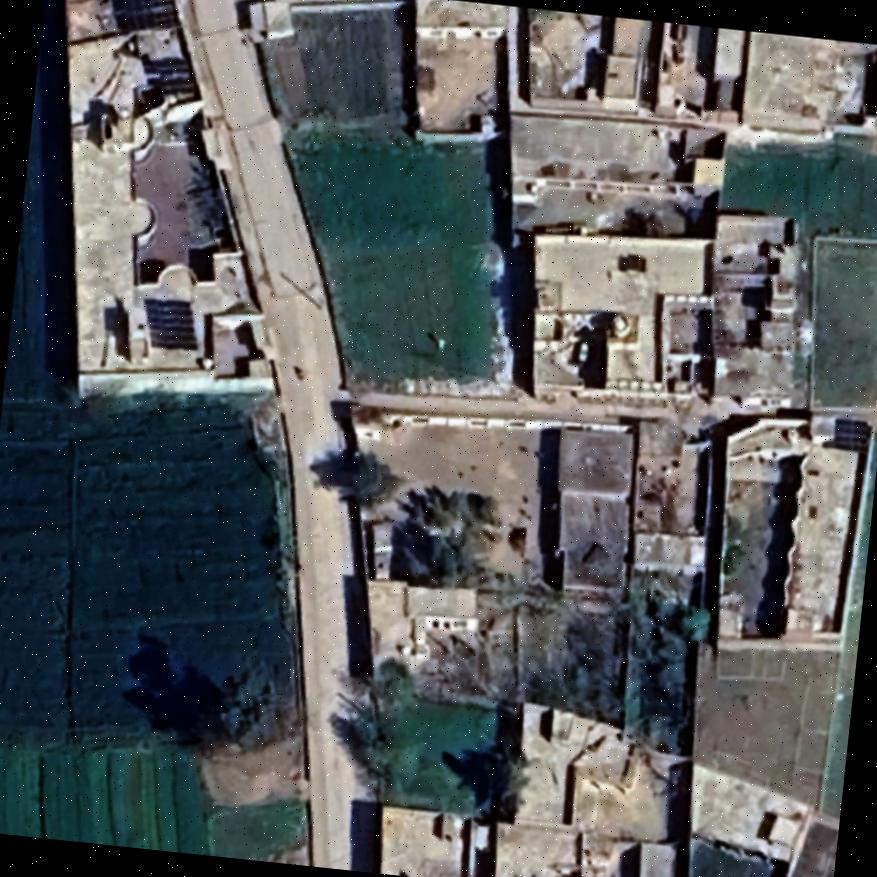Solarpanel: (133, 291, 204, 355), (132, 48, 202, 105), (101, 0, 186, 40), (824, 412, 875, 456)
